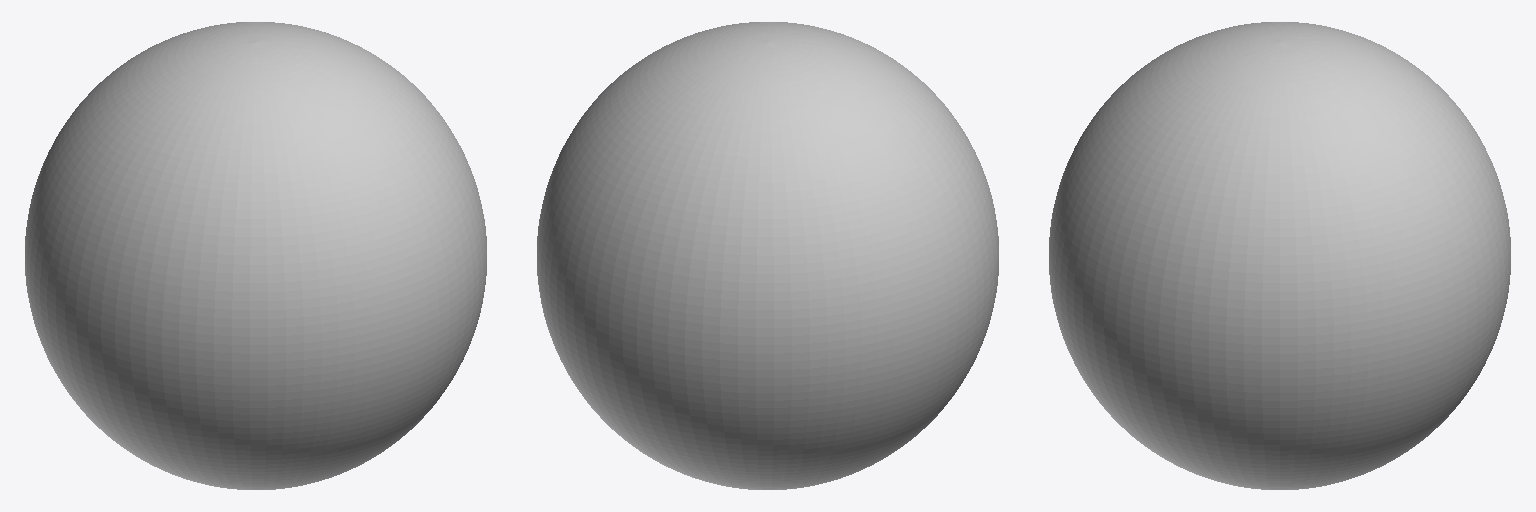
The model's file is pingpong.obj.
3 renders of one model, left to right at view 1: azimuth 30°, elevation 25°; view 2: azimuth 150°, elevation 25°; view 3: azimuth 270°, elevation 25°, orthographic.
Parts seen in each view (by area): view 1: pSphere3; view 2: pSphere3; view 3: pSphere3.
Boxes of the visible parts, <box> form: pSphere3: <box>25,22,486,489</box>; pSphere3: <box>537,22,998,489</box>; pSphere3: <box>1049,22,1510,489</box>.
Size of the model in its own units: 0.1962 by 0.1997 by 0.1962.